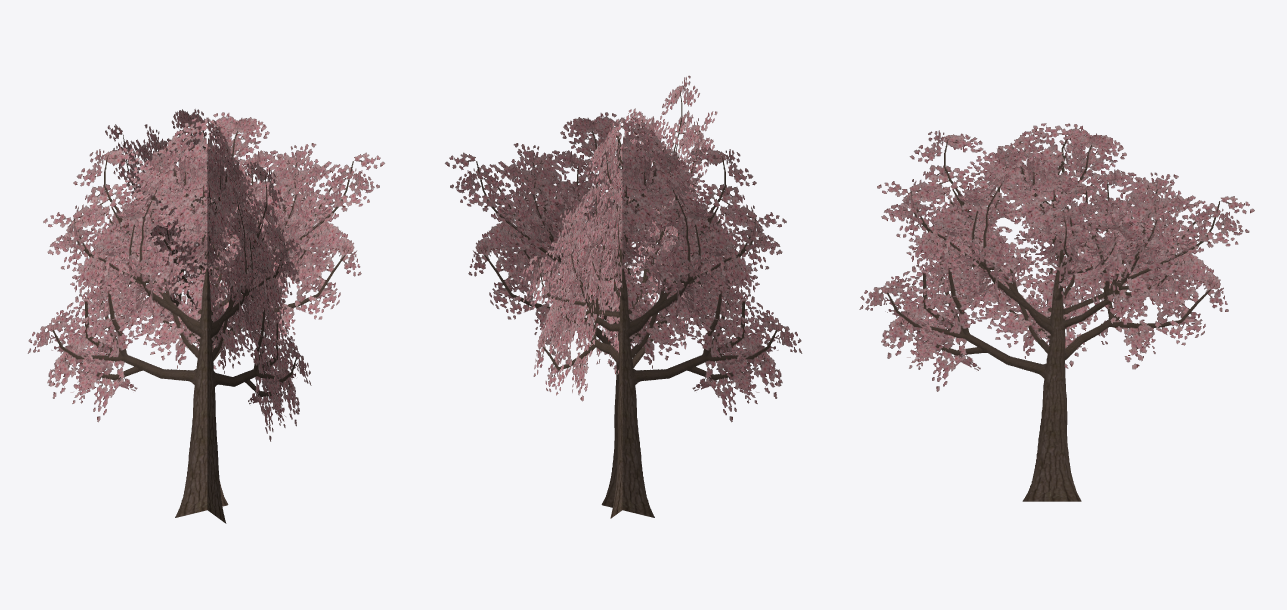
The model's file is sakura_lod.glb.
3 views of the same model, side by side, from view 1: azimuth 30°, elevation 25°; view 2: azimuth 150°, elevation 25°; view 3: azimuth 270°, elevation 25° (orthographic). The views are drawn at different scales.
Visible parts, largest first — view 1: sakura_lod; view 2: sakura_lod; view 3: sakura_lod.
Boxes of the visible parts, box(x1,y1,x2,y2) form: sakura_lod: box(27, 109, 384, 523); sakura_lod: box(445, 75, 802, 518); sakura_lod: box(859, 123, 1254, 501).
Bounding box in the file's own units: 10.16 × 10.5 × 10.16.
1 material, 1 textured.
